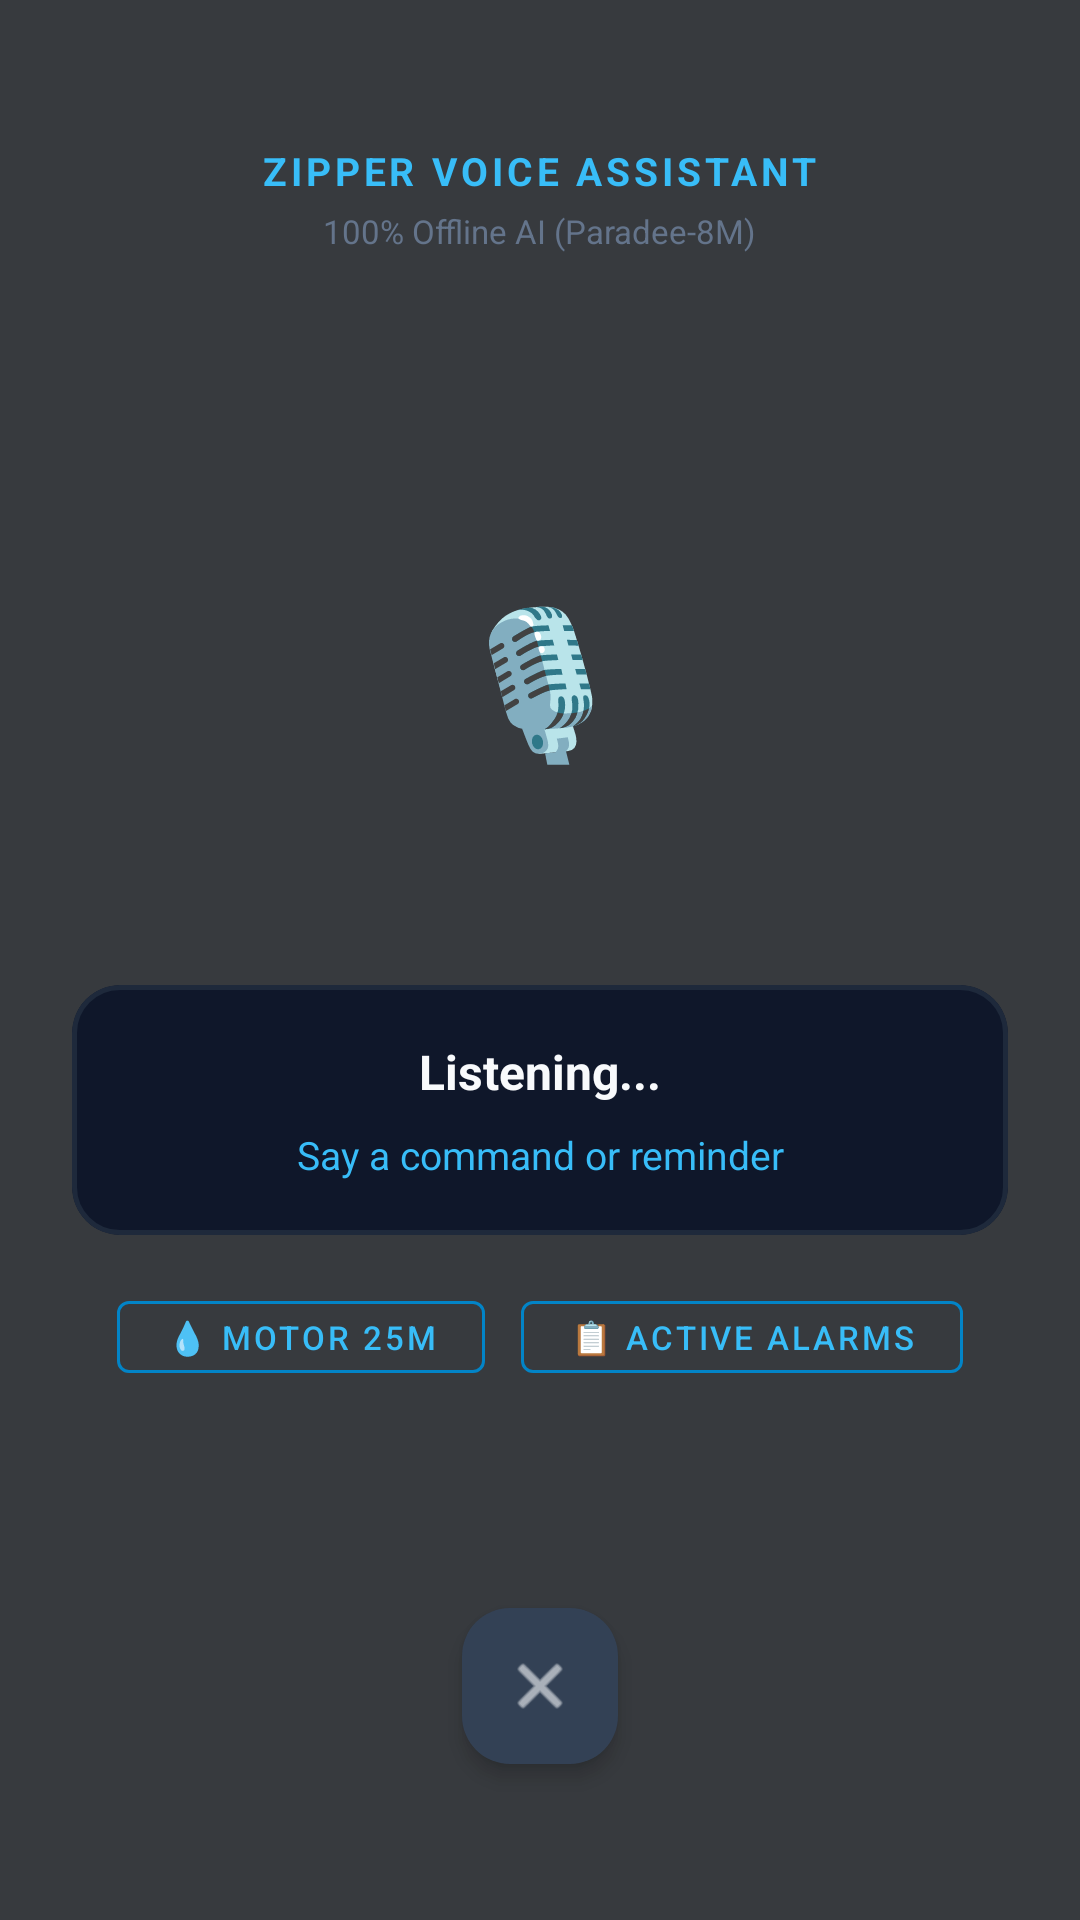

Screen size 1080px×1920px. Icon name, then its box in pixels as (x1,y1,x2,y2):
close clear cancel: (516,1663,564,1709)
